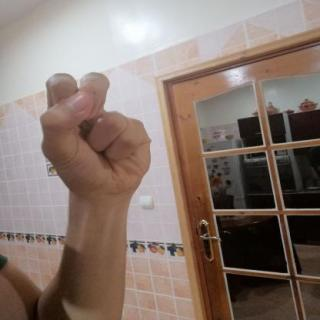QAAF: (25, 63, 172, 209)
